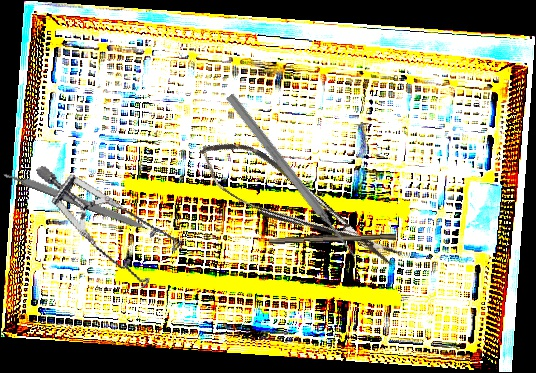Micro Scissor: (188, 123, 407, 288)
Pusher: (224, 92, 360, 261)
Scalpel Handle: (1, 167, 151, 233), (268, 229, 397, 247)
Speculum: (35, 130, 193, 309)
